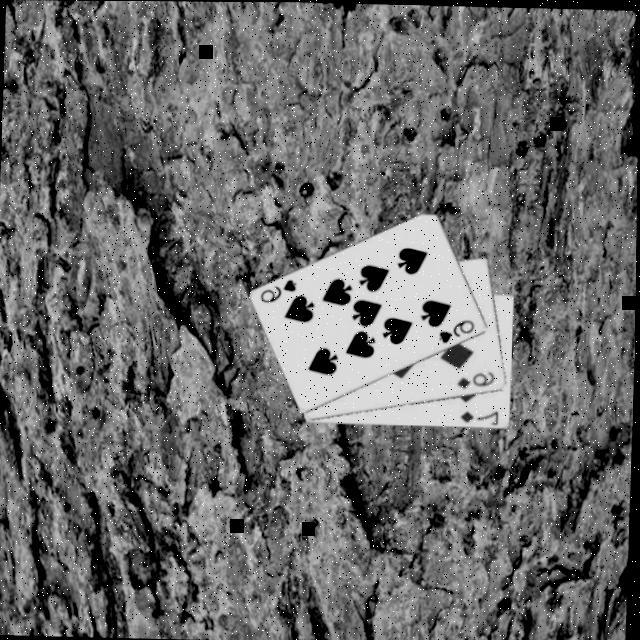6D: (453, 368, 498, 394)
7D: (458, 409, 502, 427)
9S: (434, 316, 478, 348), (256, 276, 300, 308)
